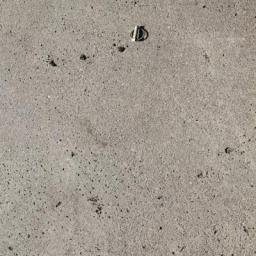FOD: (127, 23, 151, 47)
